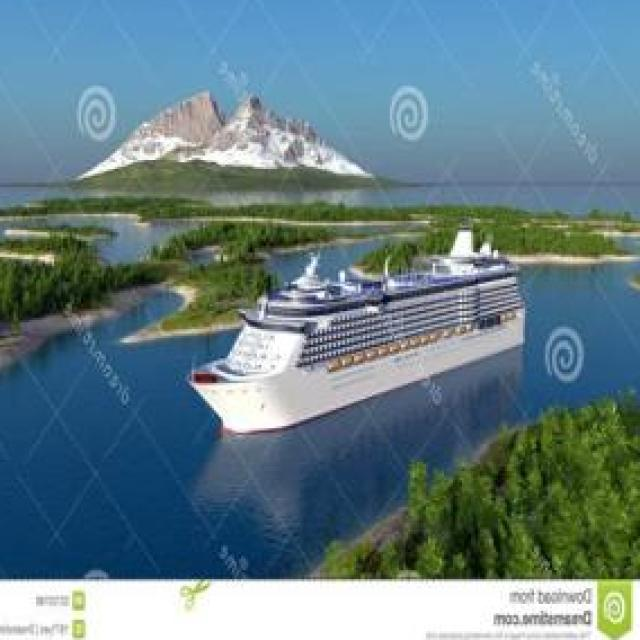passenger ship: (188, 222, 535, 429)
